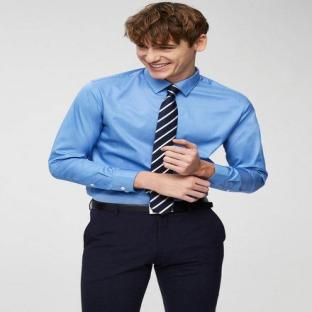Human: (48, 2, 267, 312)
